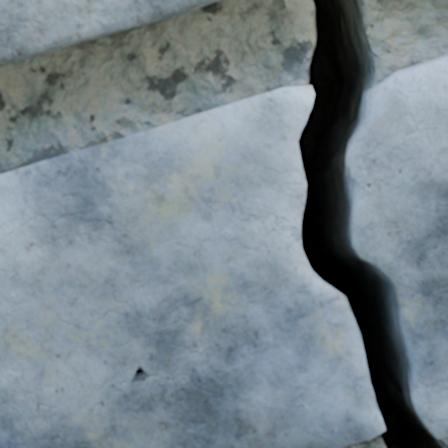brick: (0, 0, 218, 65)
broken_brick: (0, 85, 383, 447), (350, 54, 447, 439)
crack: (296, 0, 447, 447)
